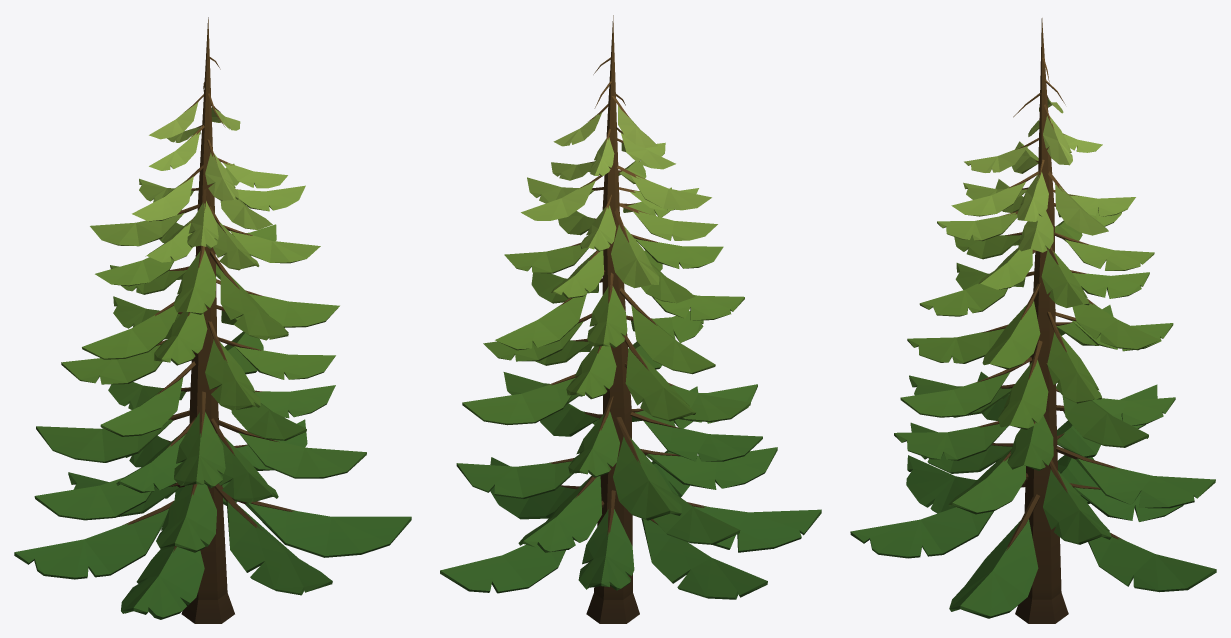
Rendered from Summer_Tree_05.glb.
3 views of the same model, side by side, from view 1: azimuth 30°, elevation 25°; view 2: azimuth 150°, elevation 25°; view 3: azimuth 270°, elevation 25° (orthographic).
Parts seen in each view (by area): view 1: Summer_Tree_05_LOD0; view 2: Summer_Tree_05_LOD0; view 3: Summer_Tree_05_LOD0.
Boxes of the visible parts, bbox=[...] form: Summer_Tree_05_LOD0: bbox=[14, 17, 411, 623]; Summer_Tree_05_LOD0: bbox=[440, 15, 821, 623]; Summer_Tree_05_LOD0: bbox=[850, 18, 1216, 623].
Size of what is drawn, in the model's own units: 4.32 by 7.35 by 4.07.
Materials: 1 (1 with a texture image).
